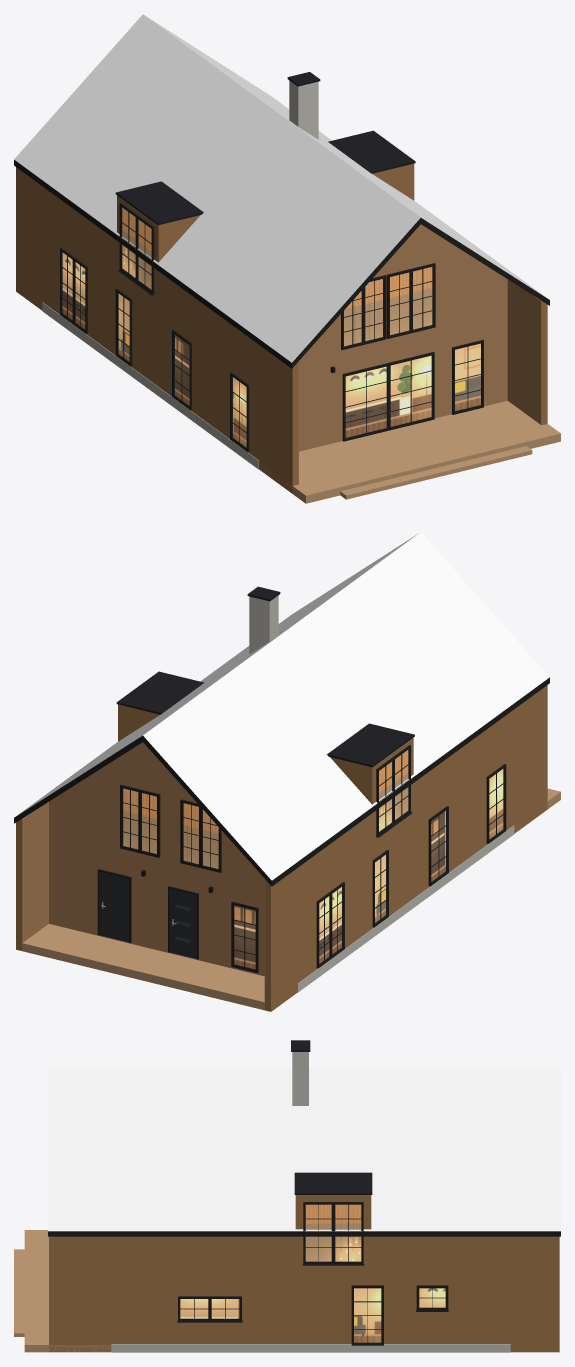
The model's file is modi170_c0_p0_m1.glb.
3 views of the same model, one above another, from view 1: azimuth 30°, elevation 25°; view 2: azimuth 150°, elevation 25°; view 3: azimuth 270°, elevation 25° (orthographic). The views are drawn at different scales.
Visible parts, largest first — view 1: roof, wall, soffit, room, deck, glass, frame, metal, fascia, plinth; view 2: roof, wall, soffit, room, frame, deck, glass, metal, door, fascia, plinth; view 3: roof, wall, room, glass, plinth, deck, frame, fascia, metal.
Boxes of the visible parts, <box> form: roof: <box>14,14,546,362</box>; wall: <box>16,163,547,493</box>; soffit: <box>298,224,541,484</box>; room: <box>62,207,480,447</box>; deck: <box>259,400,560,503</box>; glass: <box>63,208,480,446</box>; frame: <box>60,203,483,452</box>; metal: <box>115,72,415,225</box>; fascia: <box>14,160,549,368</box>; plinth: <box>42,80,318,469</box>; roof: <box>17,532,549,880</box>; wall: <box>16,685,547,1011</box>; soffit: <box>22,742,265,1010</box>; room: <box>123,750,503,969</box>; frame: <box>97,745,506,973</box>; deck: <box>22,788,560,1010</box>; glass: <box>123,750,502,968</box>; metal: <box>116,586,414,767</box>; door: <box>99,871,196,958</box>; fascia: <box>14,677,549,886</box>; plinth: <box>249,595,514,992</box>; roof: <box>48,1068,560,1231</box>; wall: <box>49,1195,559,1352</box>; room: <box>180,1204,445,1342</box>; glass: <box>181,1205,444,1342</box>; plinth: <box>111,1052,510,1352</box>; deck: <box>14,1230,111,1352</box>; frame: <box>177,1202,448,1345</box>; fascia: <box>48,1231,560,1236</box>; metal: <box>291,1040,372,1194</box>.
Size of the model in its own units: 9.08 by 9.33 by 17.89.
Materials: 14 (5 with a texture image).
